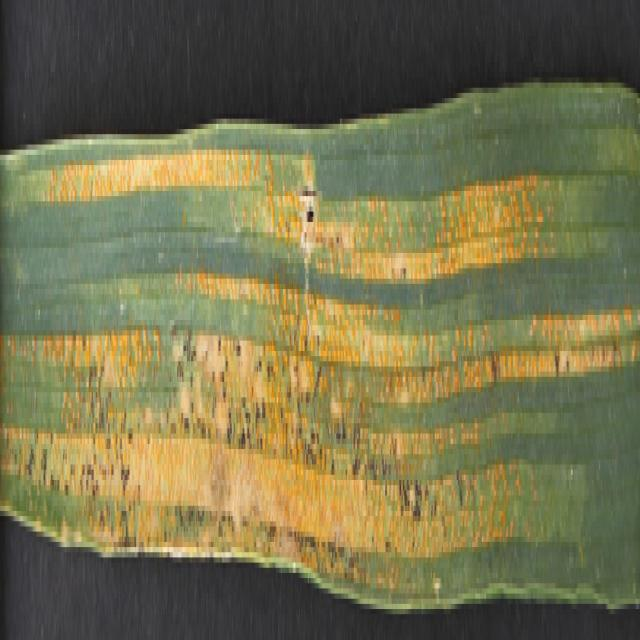leaf rust: (4, 145, 634, 547)
